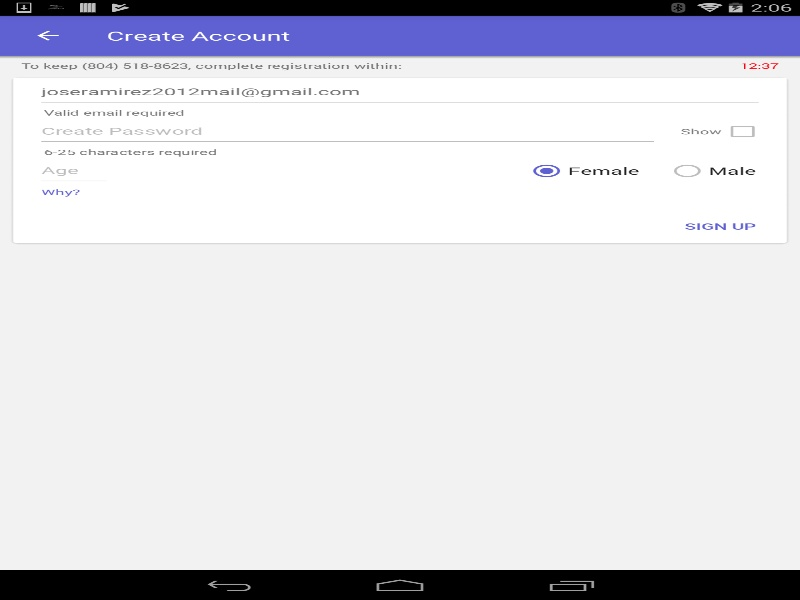Button: (10, 15, 85, 55)
Input: (36, 78, 764, 107), (36, 117, 659, 146), (36, 157, 112, 186)
